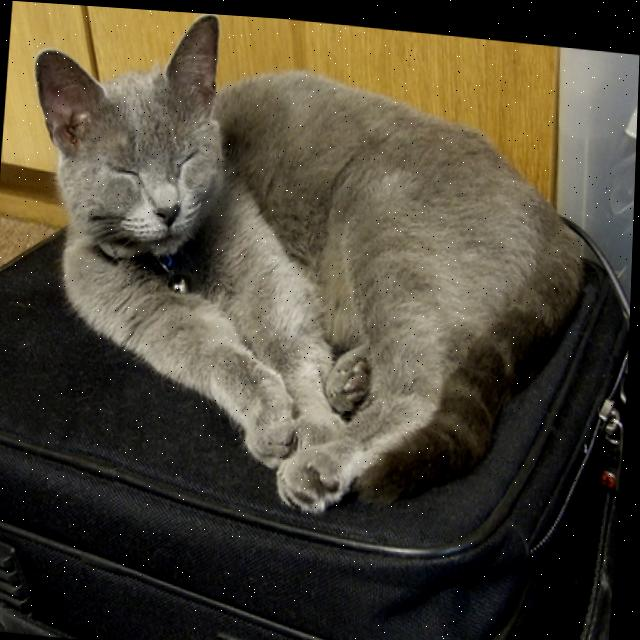Russian Blue: (3, 1, 601, 536)
